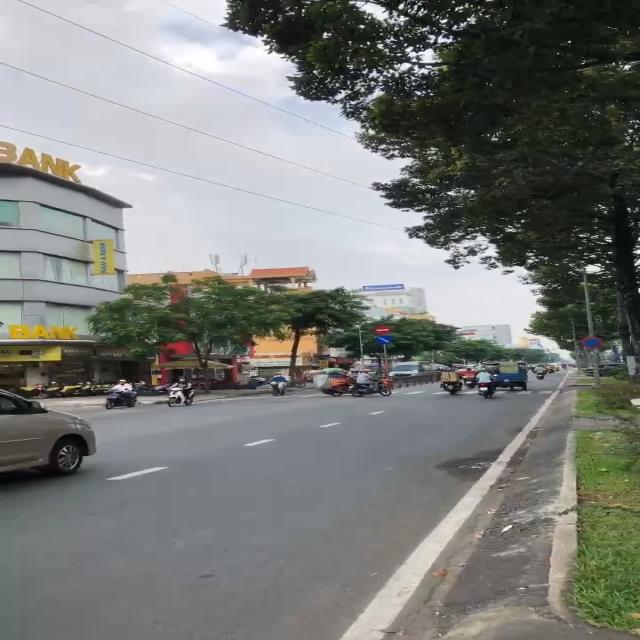Bien bao cam di nguoc chieu: (373, 325, 393, 335)
Bien bao huong phai di vong chuong ngai vat: (374, 336, 392, 345)
